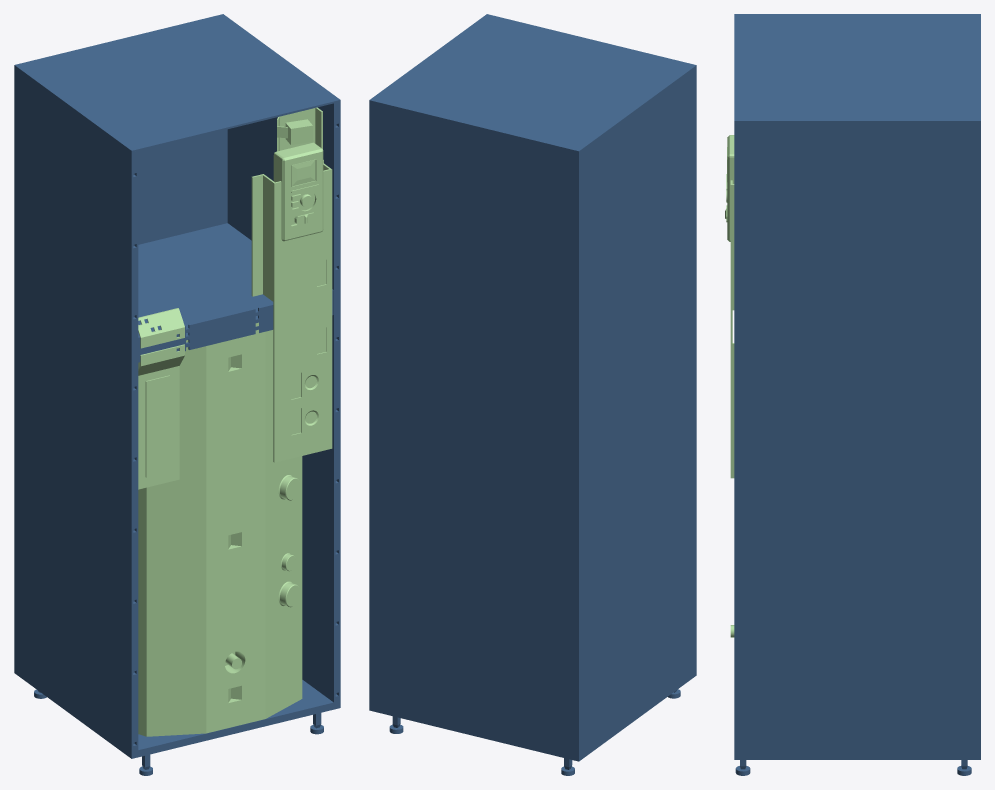
The model's file is AVCM270-Frame.fbx.
3 views of the same model, side by side, from view 1: azimuth 30°, elevation 25°; view 2: azimuth 150°, elevation 25°; view 3: azimuth 270°, elevation 25° (orthographic). The views are drawn at different scales.
Parts seen in each view (by area): view 1: AVCM270-Frame, AVCM270-BottomDetails, AVCM270-Electronics2, AVCM270-Hatch_Top, AVCM270-Electronics1, AVCM270-Screen; view 2: AVCM270-Frame, AVCM270-Hatch_Top; view 3: AVCM270-Frame, AVCM270-Hatch_Top, AVCM270-Electronics2, AVCM270-Screen.
Boxes of the visible parts, left/top/right/bottom form: AVCM270-Frame: left=14, top=14, right=340, bottom=775; AVCM270-BottomDetails: left=138, top=322, right=302, bottom=736; AVCM270-Electronics2: left=251, top=107, right=332, bottom=462; AVCM270-Hatch_Top: left=68, top=54, right=340, bottom=152; AVCM270-Electronics1: left=138, top=308, right=184, bottom=489; AVCM270-Screen: left=273, top=142, right=323, bottom=241; AVCM270-Frame: left=369, top=60, right=696, bottom=775; AVCM270-Hatch_Top: left=424, top=14, right=696, bottom=112; AVCM270-Frame: left=734, top=14, right=980, bottom=775; AVCM270-Hatch_Top: left=734, top=14, right=866, bottom=122; AVCM270-Electronics2: left=730, top=180, right=734, bottom=478; AVCM270-Screen: left=726, top=135, right=734, bottom=241.
Size of the model in its own units: 61.5 by 177 by 62.07.
